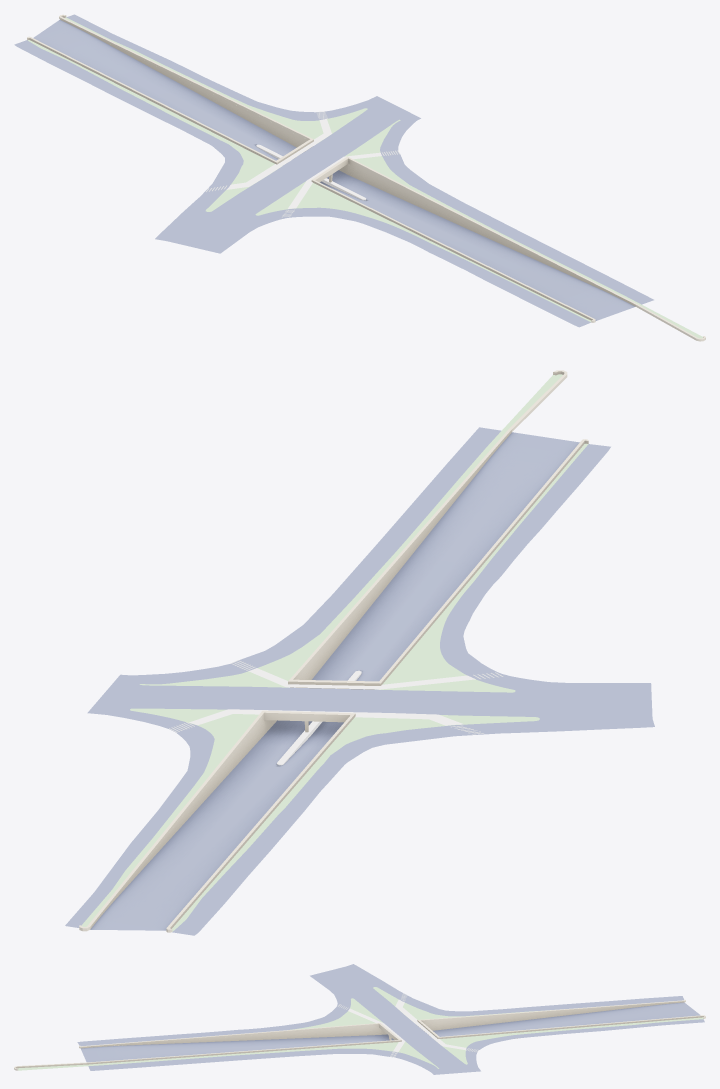
Rendered from Seifullina-Timiryazeva-colored.glb.
3 views of the same model, one above another, from view 1: azimuth 30°, elevation 25°; view 2: azimuth 150°, elevation 25°; view 3: azimuth 270°, elevation 25° (orthographic). The views are drawn at different scales.
Parts seen in each view (by area): view 1: group_12, group_8, group_1.001, group_9; view 2: group_12, group_1.001, group_8, group_9; view 3: group_12, group_8, group_1.001, group_9.
Part boxes in pixels (box(x1,y1,x2,y2)): group_12: box(14, 14, 653, 327); group_8: box(27, 14, 705, 341); group_1.001: box(28, 17, 702, 338); group_9: box(226, 119, 381, 208); group_12: box(65, 427, 654, 935); group_1.001: box(81, 374, 588, 931); group_8: box(79, 370, 588, 932); group_9: box(189, 668, 475, 765); group_12: box(77, 964, 704, 1074); group_8: box(14, 999, 705, 1070); group_1.001: box(17, 987, 703, 1070); group_9: box(348, 999, 466, 1051).
Bounding box in the file's own units: 162 × 8 × 427.
5 materials, 2 textured.
